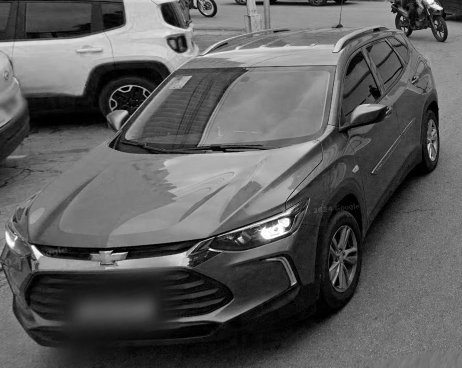car: (8, 27, 445, 337)
